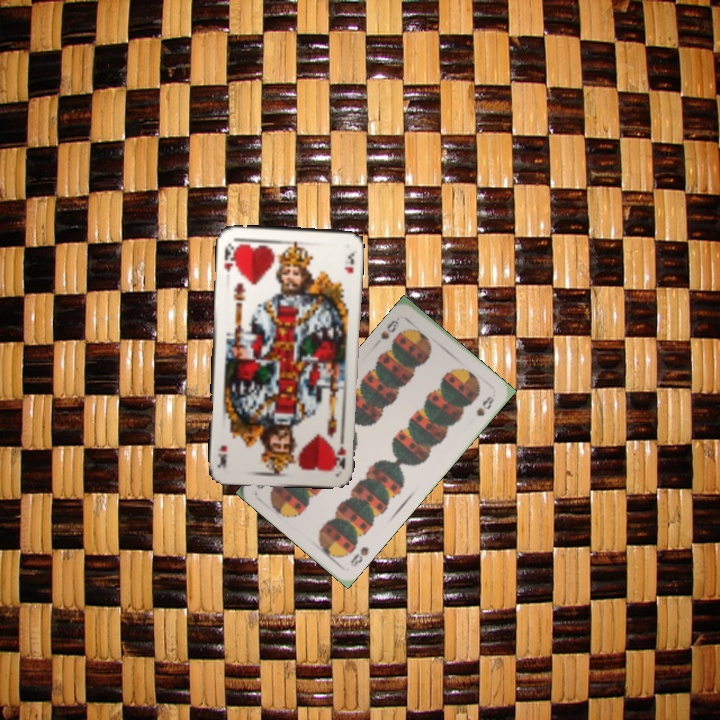HK: (219, 239, 238, 275), (332, 432, 349, 471)
S8: (377, 313, 402, 342), (346, 542, 372, 569)
